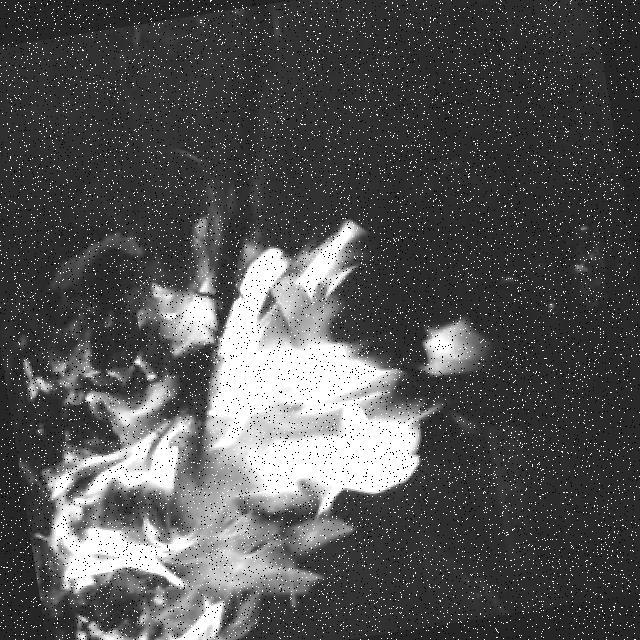Fire: (5, 188, 525, 640)
